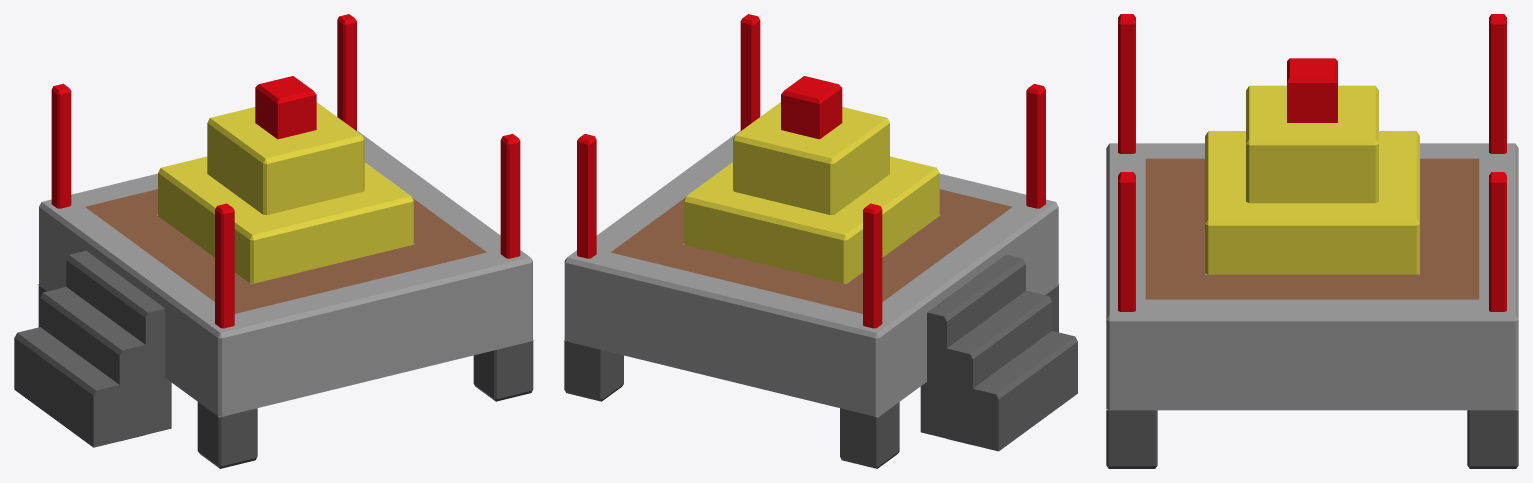
File: Shrine.fbx
3 views of the same model, side by side, from view 1: azimuth 30°, elevation 25°; view 2: azimuth 150°, elevation 25°; view 3: azimuth 270°, elevation 25° (orthographic). The views are drawn at different scales.
Parts seen in each view (by area): view 1: Cube; view 2: Cube; view 3: Cube.
Boxes of the visible parts, x1,y1,x2,y2 form: Cube: [14, 14, 533, 468]; Cube: [563, 14, 1077, 468]; Cube: [1106, 14, 1518, 468].
Size of the model in its own units: 312 by 214 by 254.
3 materials, 1 textured.
